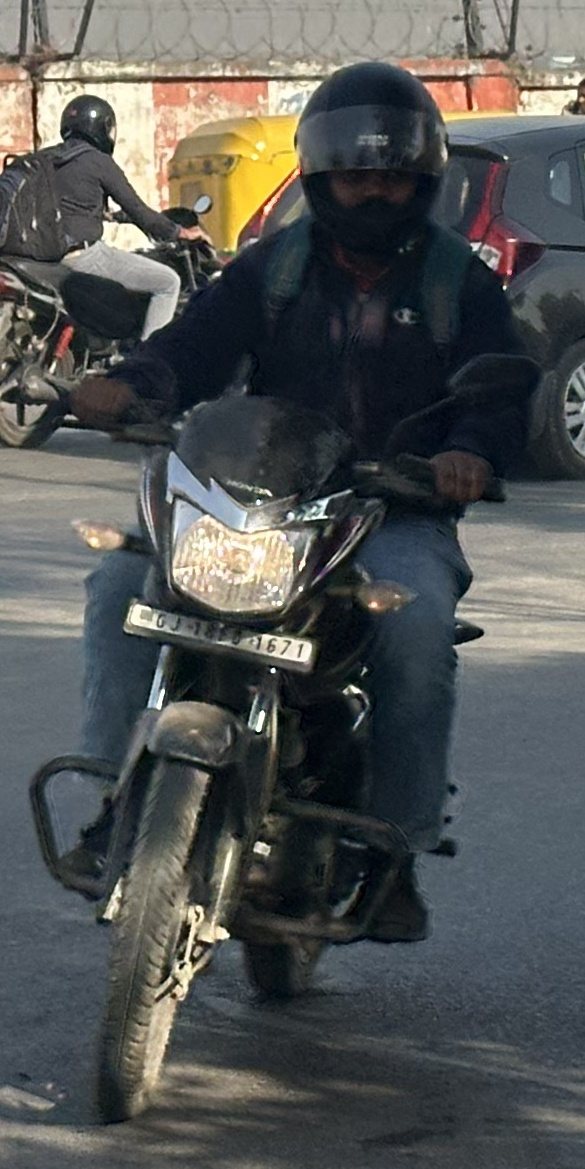BikeWithRider: (27, 52, 546, 1125), (0, 89, 235, 450)
Helmet: (286, 56, 462, 261), (53, 91, 126, 159)
